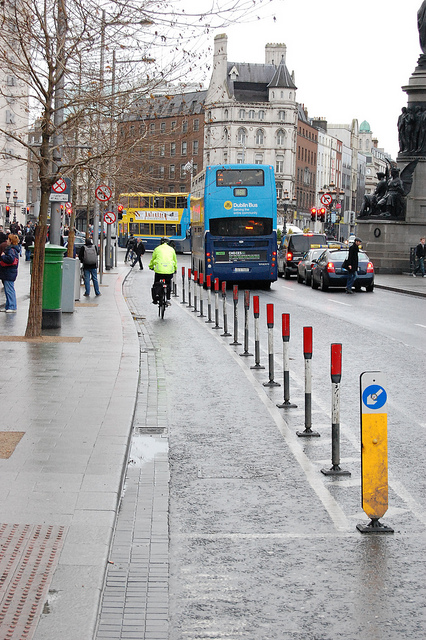Bike: (145, 276, 190, 314)
Bus: (206, 167, 281, 281), (120, 193, 196, 250)
Car: (319, 251, 383, 295)
Keep left: (356, 378, 397, 537)
No left turn: (101, 214, 126, 224)
No right turn: (320, 194, 339, 207)
Person: (154, 238, 182, 276), (347, 239, 362, 290)
Traffic light: (309, 208, 334, 225)
